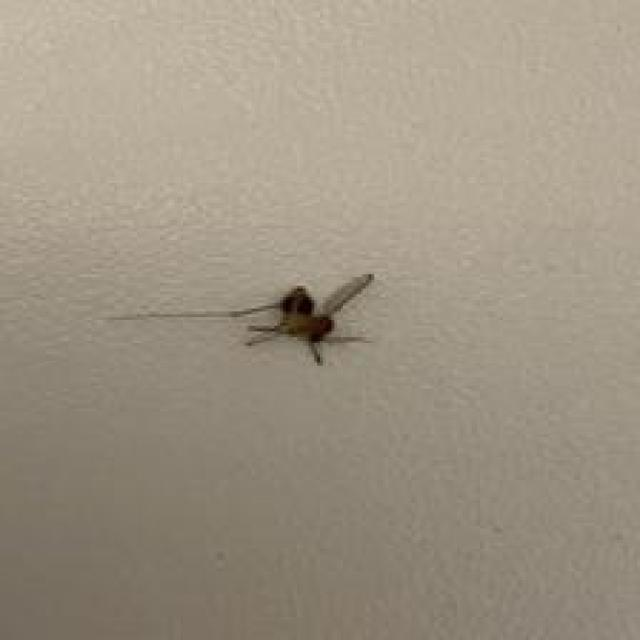Culex: (106, 270, 377, 367)
